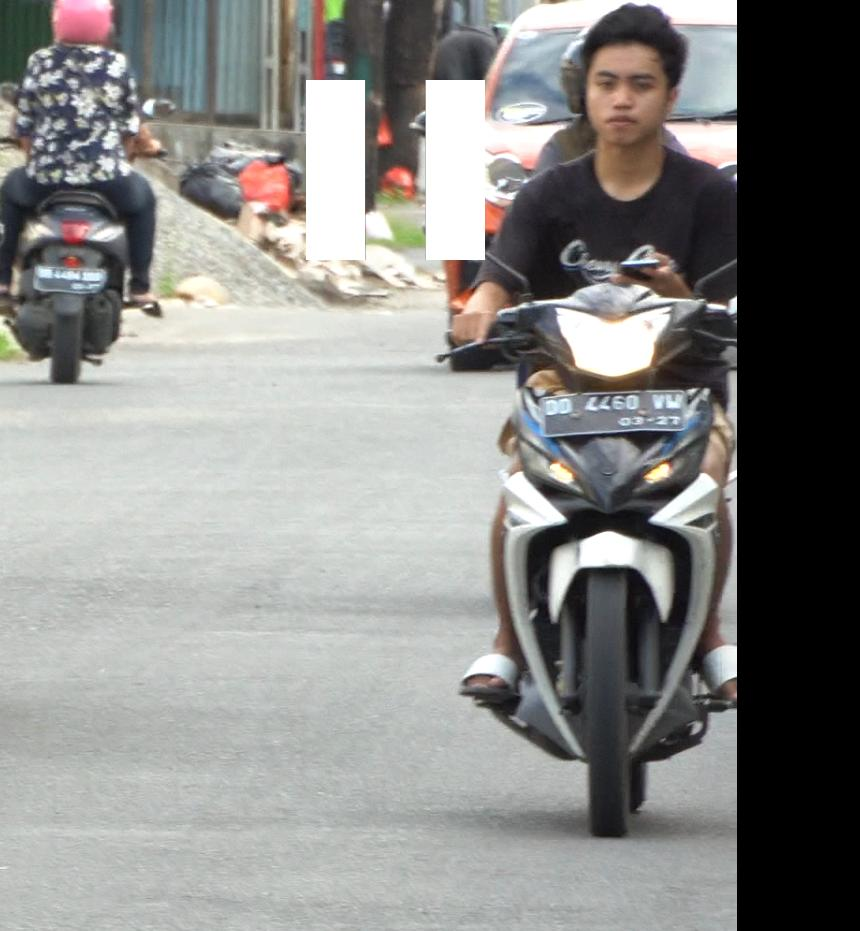number-plate: (534, 391, 696, 435)
